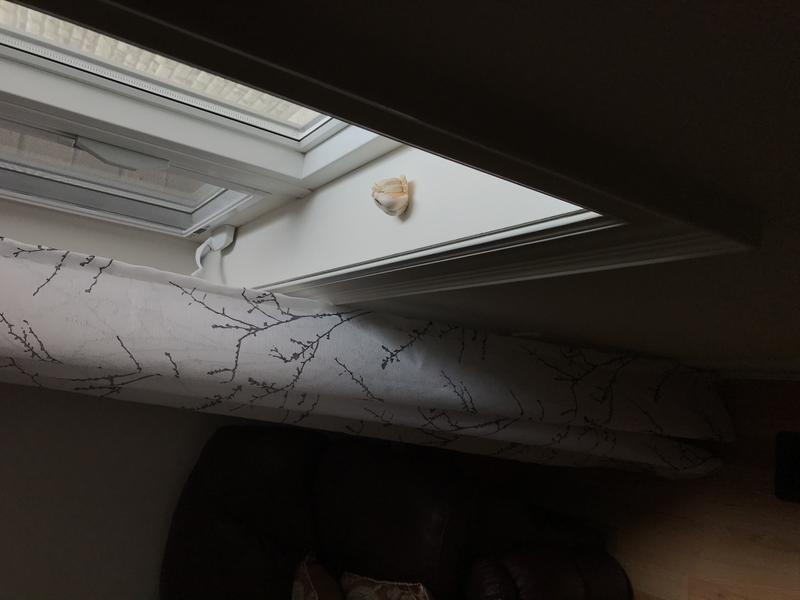garlic: (368, 171, 414, 223)
